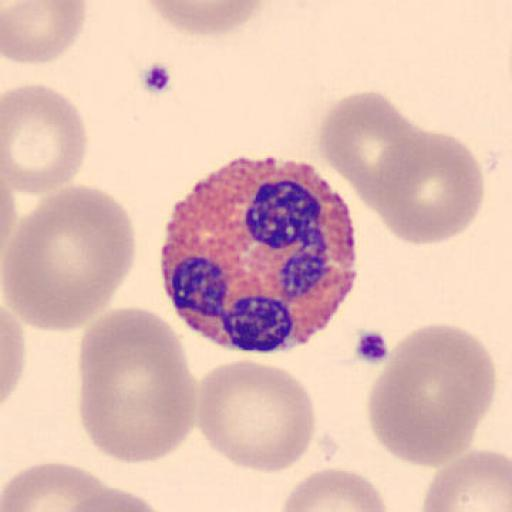RBC: (2, 182, 137, 333), (77, 304, 196, 465), (369, 322, 497, 469), (195, 358, 317, 474), (317, 88, 427, 212), (373, 129, 486, 246), (2, 82, 90, 196), (4, 461, 148, 512), (419, 448, 512, 512), (1, 0, 89, 66), (2, 460, 103, 512), (278, 467, 389, 512), (137, 0, 268, 38), (58, 485, 172, 512), (1, 302, 26, 410), (0, 174, 18, 256)
WBC: (161, 156, 360, 353)
